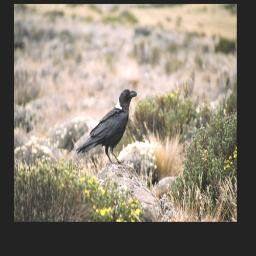Crow: (75, 86, 139, 167)
